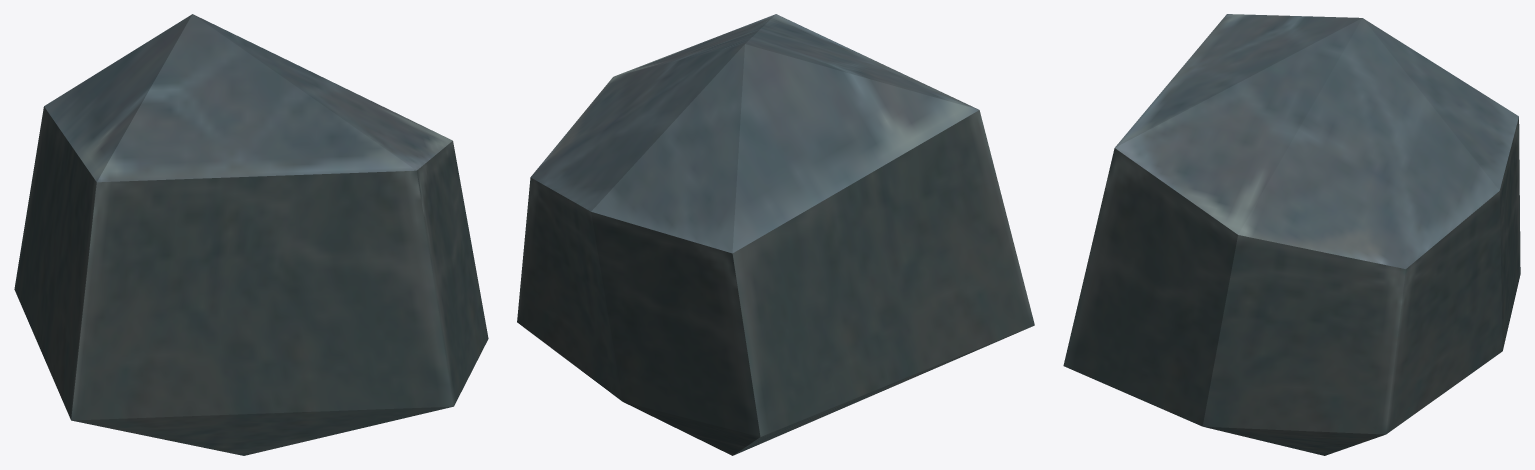
The model's file is jg_shitou01.fbx.
3 views of the same model, side by side, from view 1: azimuth 30°, elevation 25°; view 2: azimuth 150°, elevation 25°; view 3: azimuth 270°, elevation 25° (orthographic). The views are drawn at different scales.
Visible parts, largest first — view 1: polySurface5; view 2: polySurface5; view 3: polySurface5.
Part boxes in pixels (x1=…): polySurface5: x1=14, y1=14, x2=488, y2=455; polySurface5: x1=517, y1=14, x2=1034, y2=455; polySurface5: x1=1063, y1=14, x2=1520, y2=455.
Bounding box in the file's own units: 44.18 × 43.46 × 42.57.
